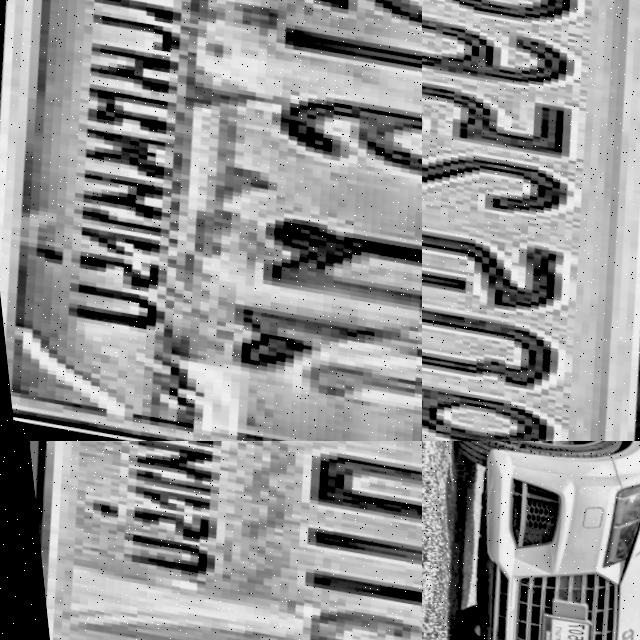license-plate: (0, 0, 422, 441), (422, 0, 640, 441), (0, 441, 422, 640), (523, 610, 589, 640)
